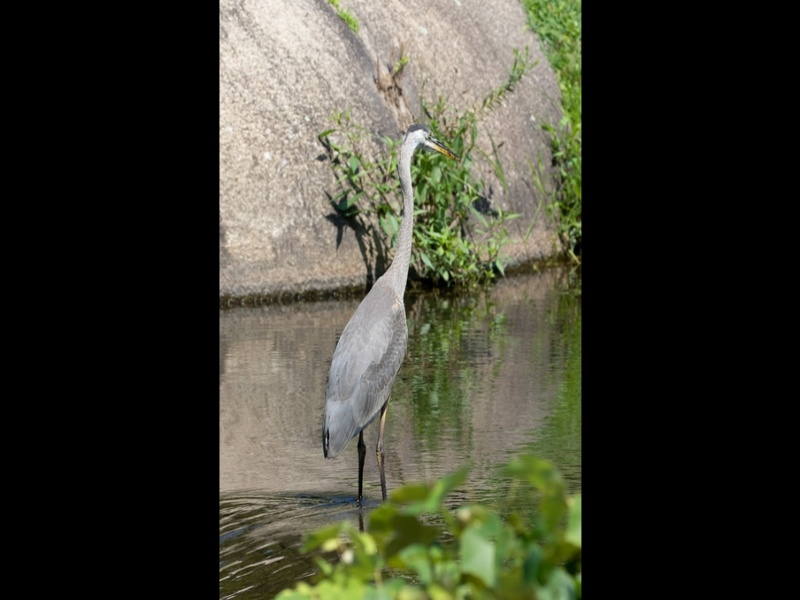heron: (317, 123, 452, 510)
